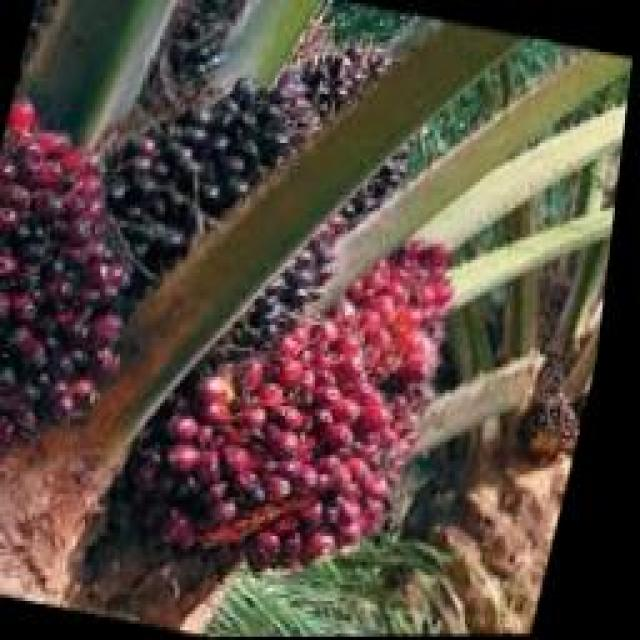Ripefruit: (119, 195, 489, 611), (0, 88, 178, 542)
